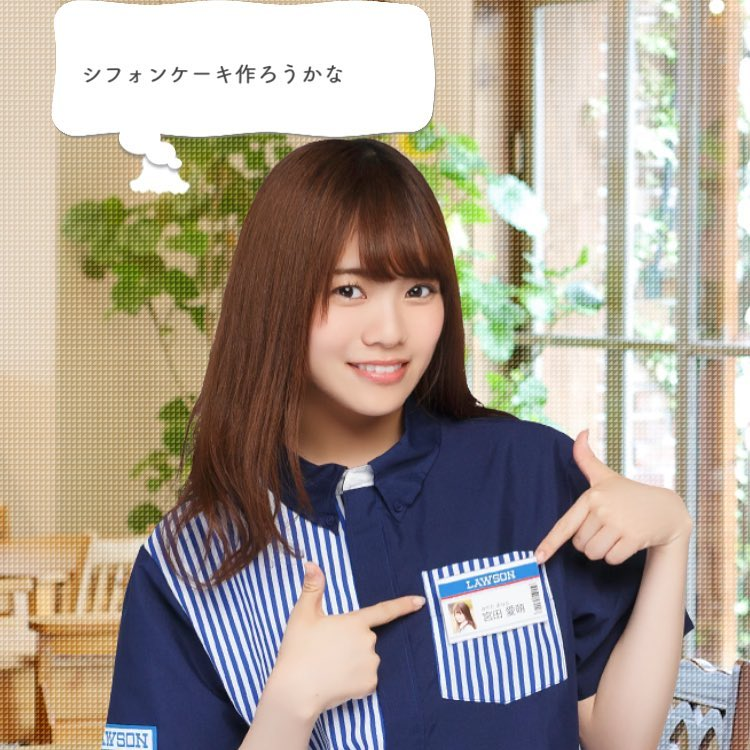face: (306, 208, 445, 418)
hand: (260, 559, 426, 717), (536, 429, 693, 566)
